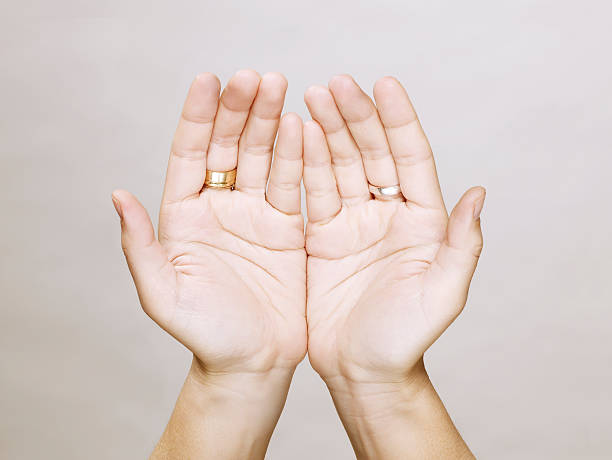non-diseased: (127, 50, 484, 370)
